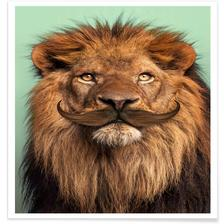lions: (26, 23, 220, 217)
